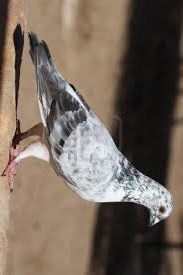pigeon: (3, 26, 175, 228)
